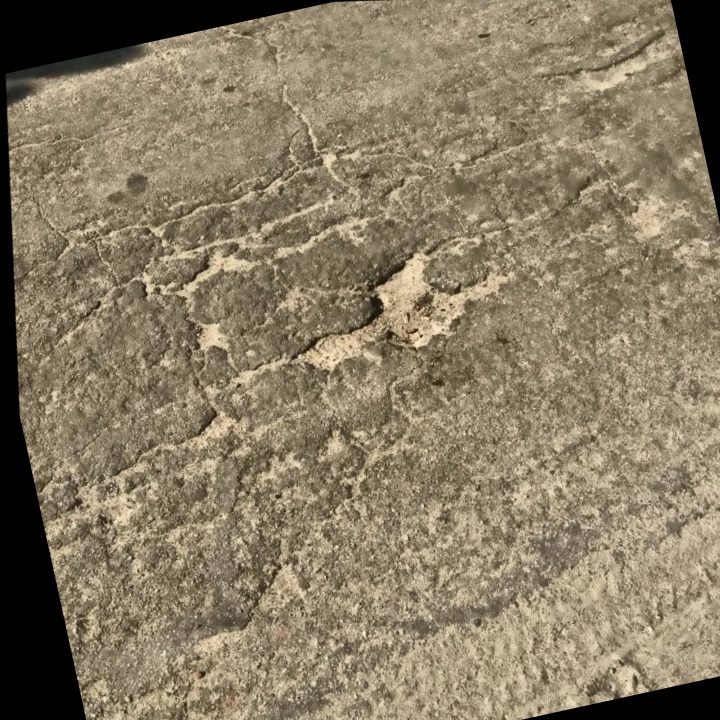pothole: (271, 205, 536, 413)
